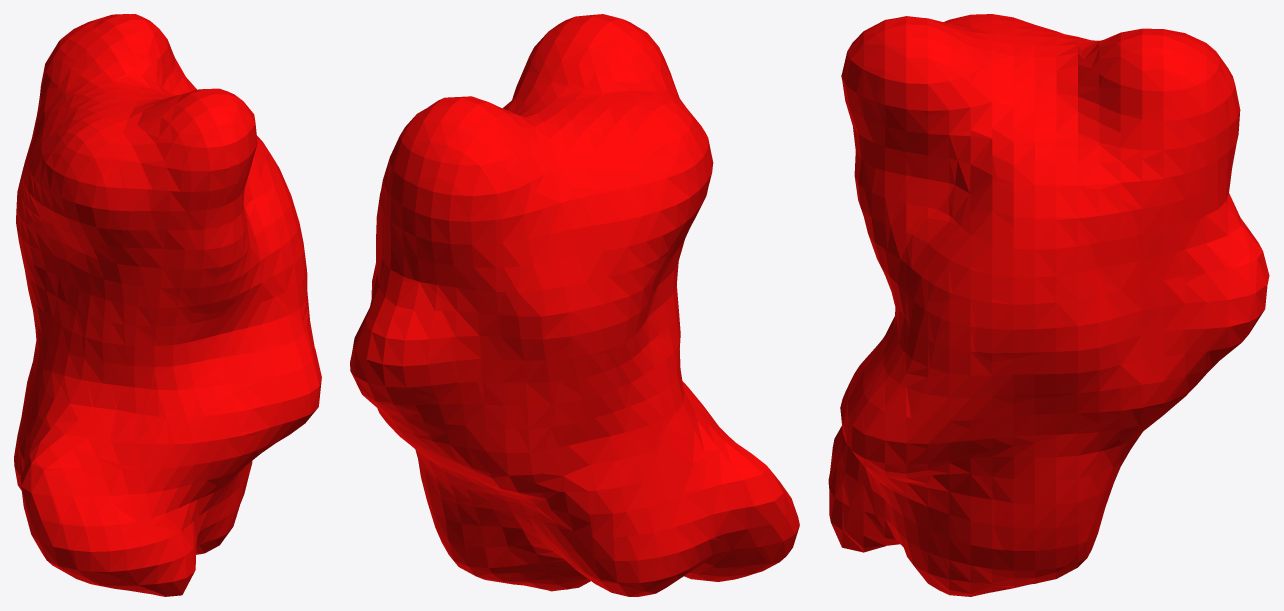
File: yciA_coarse.dae
The picture shows the model from 3 angles, left to right: view 1: azimuth 30°, elevation 25°; view 2: azimuth 150°, elevation 25°; view 3: azimuth 270°, elevation 25°; orthographic projection. The views are drawn at different scales.
Parts seen in each view (by area): view 1: yciA; view 2: yciA; view 3: yciA.
Boxes of the visible parts, x1,y1,x2,y2 form: yciA: (14, 14, 321, 596); yciA: (350, 14, 799, 596); yciA: (828, 14, 1269, 596).
Bounding box in the file's own units: 32.73 × 49.78 × 35.09.
